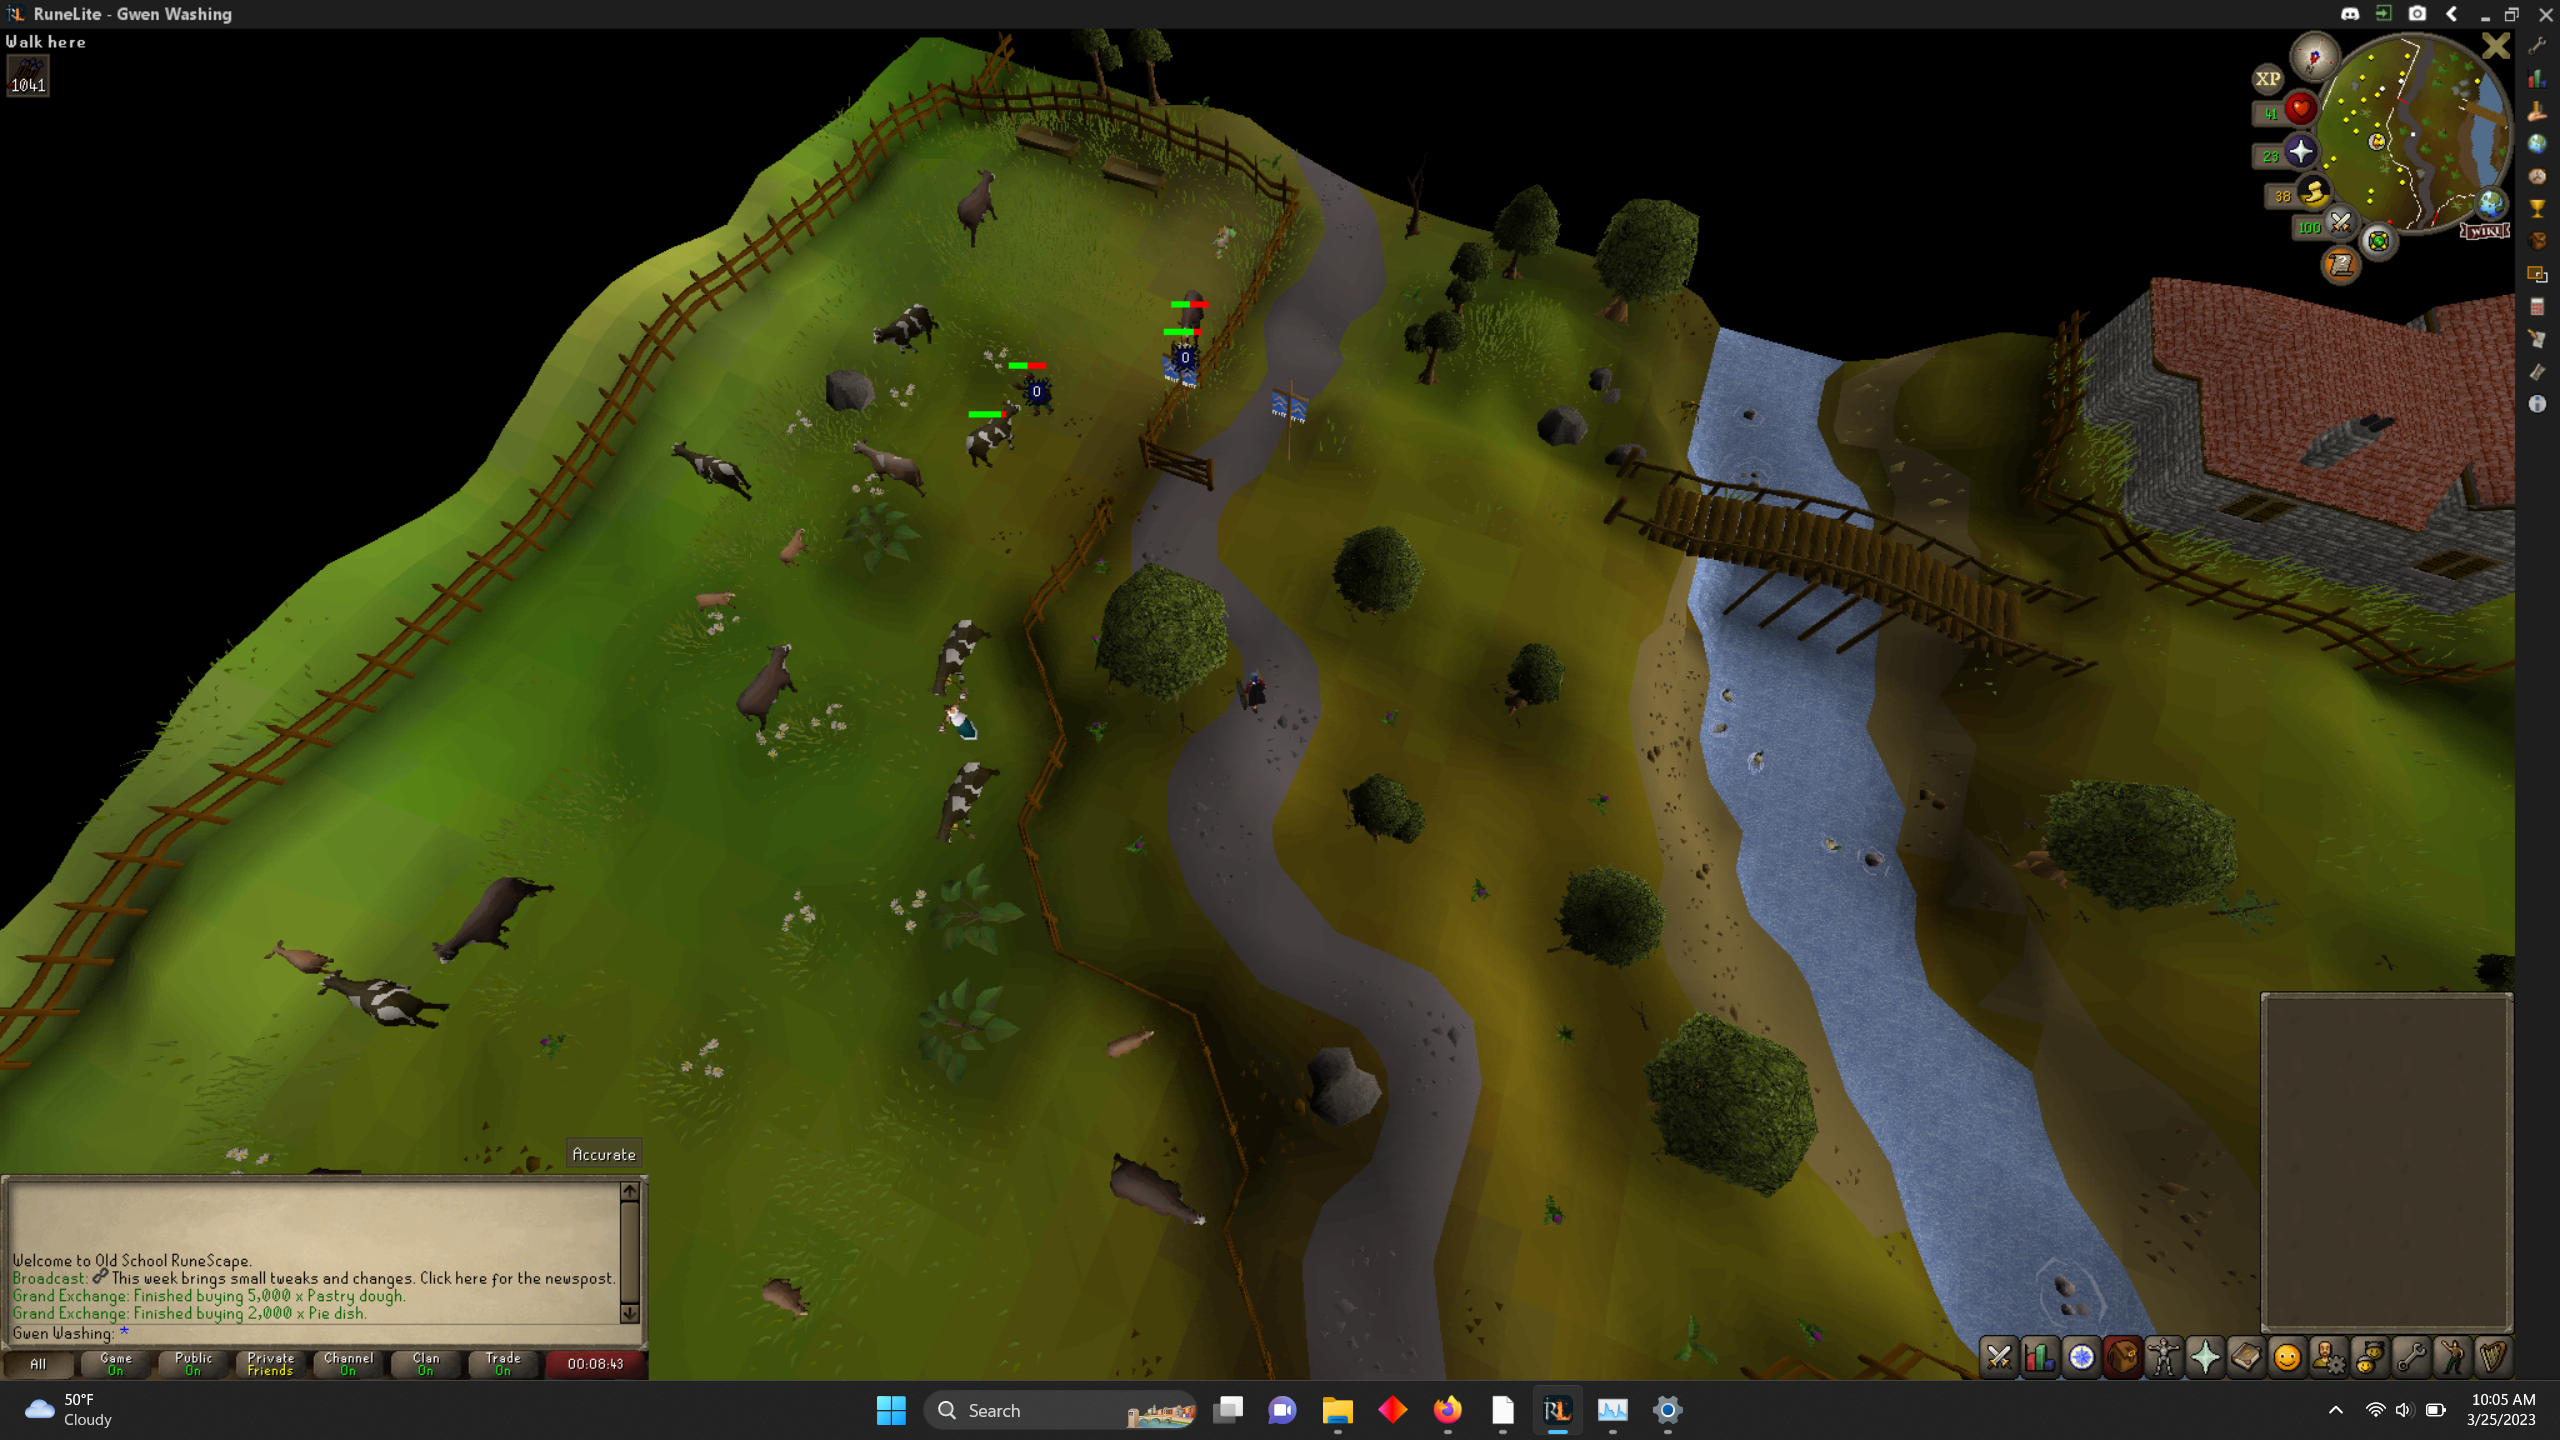cow: (429, 872, 561, 972), (1104, 1145, 1211, 1238), (315, 967, 452, 1037), (932, 756, 1011, 858), (730, 640, 805, 745), (930, 614, 995, 698), (668, 438, 754, 499), (870, 301, 949, 362), (951, 169, 1007, 251), (855, 434, 928, 496), (962, 401, 1016, 473), (753, 1268, 818, 1322), (262, 935, 338, 979), (1101, 1022, 1162, 1067), (1176, 290, 1208, 348), (774, 522, 818, 563), (695, 587, 745, 615)
